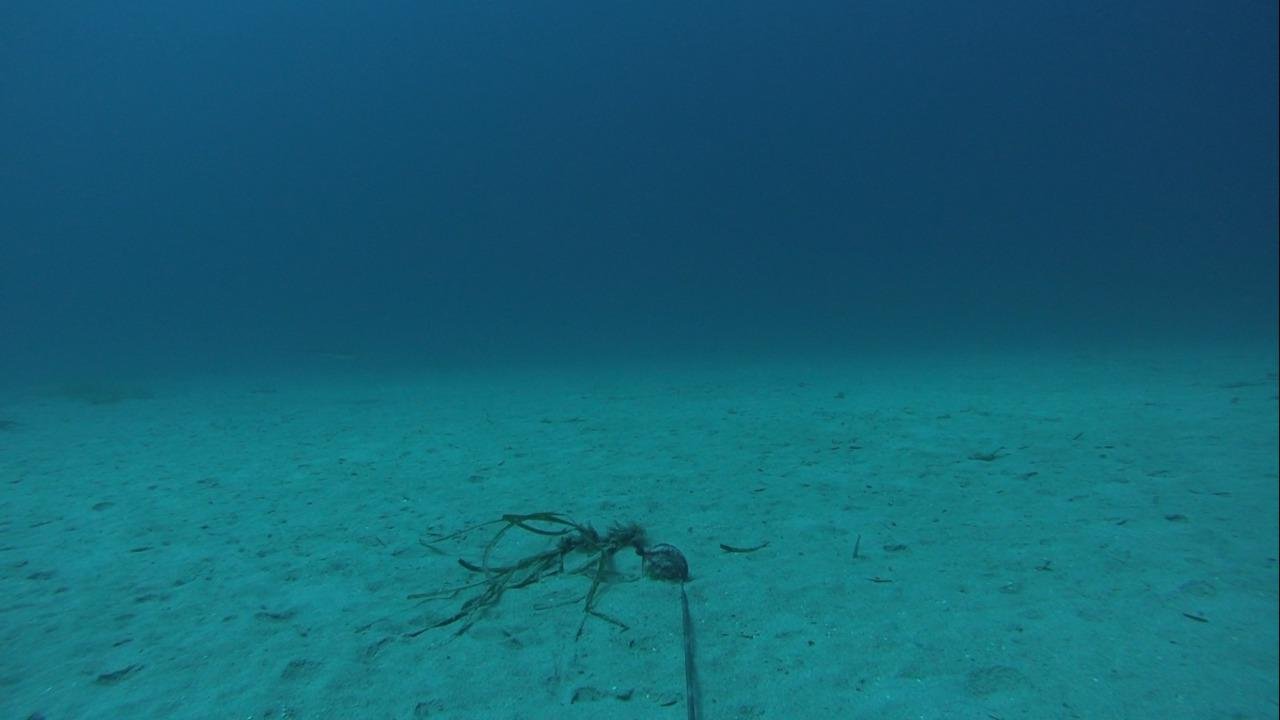myliobatis: (214, 324, 374, 378)
